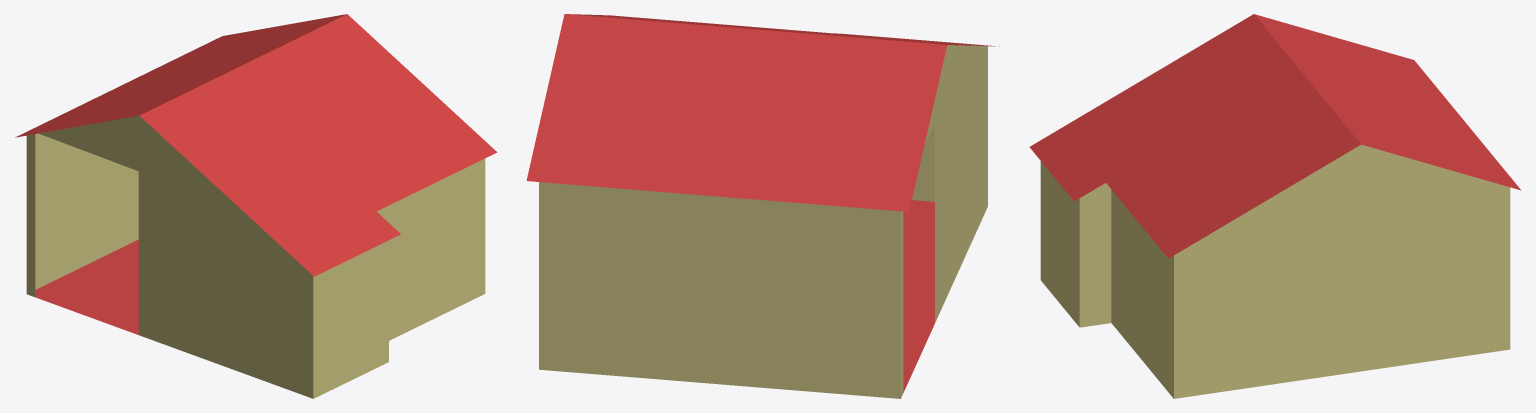
The picture shows the model from 3 angles, left to right: view 1: azimuth 30°, elevation 25°; view 2: azimuth 150°, elevation 25°; view 3: azimuth 270°, elevation 25°; orthographic projection. The views are drawn at different scales.
Size of the model in its own units: 24.23 by 27.64 by 14.3.
